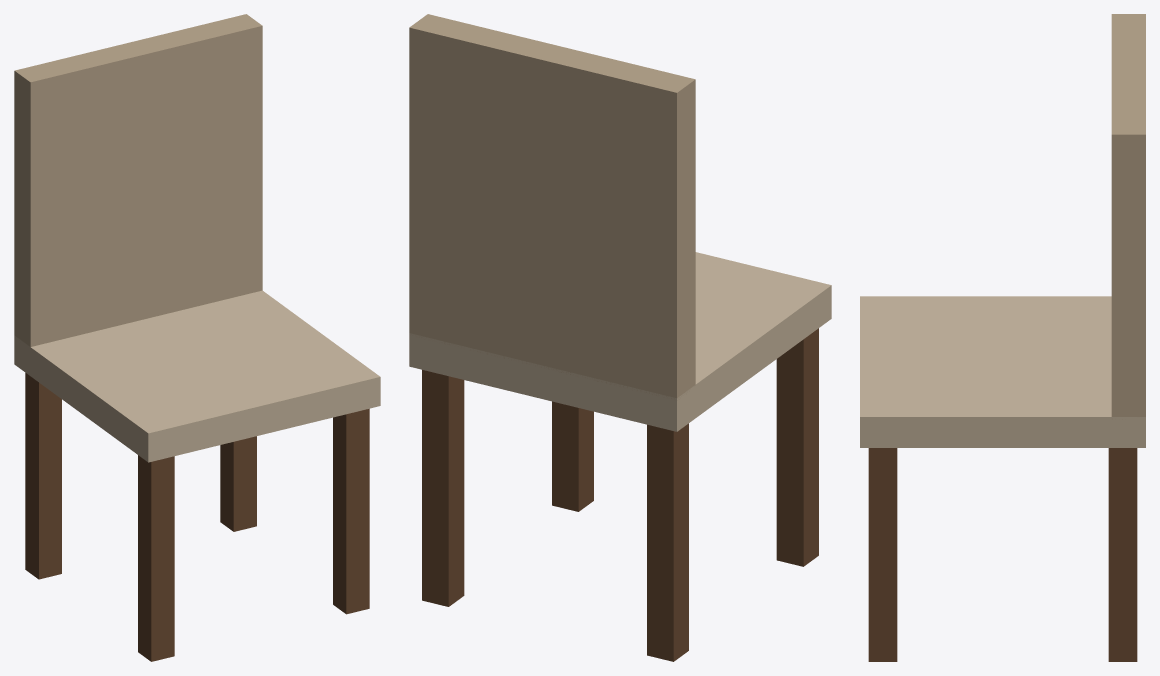
Rendered from chair.glb.
The picture shows the model from 3 angles, left to right: view 1: azimuth 30°, elevation 25°; view 2: azimuth 150°, elevation 25°; view 3: azimuth 270°, elevation 25°; orthographic projection. The views are drawn at different scales.
Visible parts, largest first — view 1: chair; view 2: chair; view 3: chair.
Part boxes in pixels (left/top/right/bottom): chair: left=14, top=14, right=380, bottom=661; chair: left=409, top=14, right=831, bottom=661; chair: left=860, top=14, right=1145, bottom=661.
Bounding box in the file's own units: 0.5 × 1.02 × 0.5.
